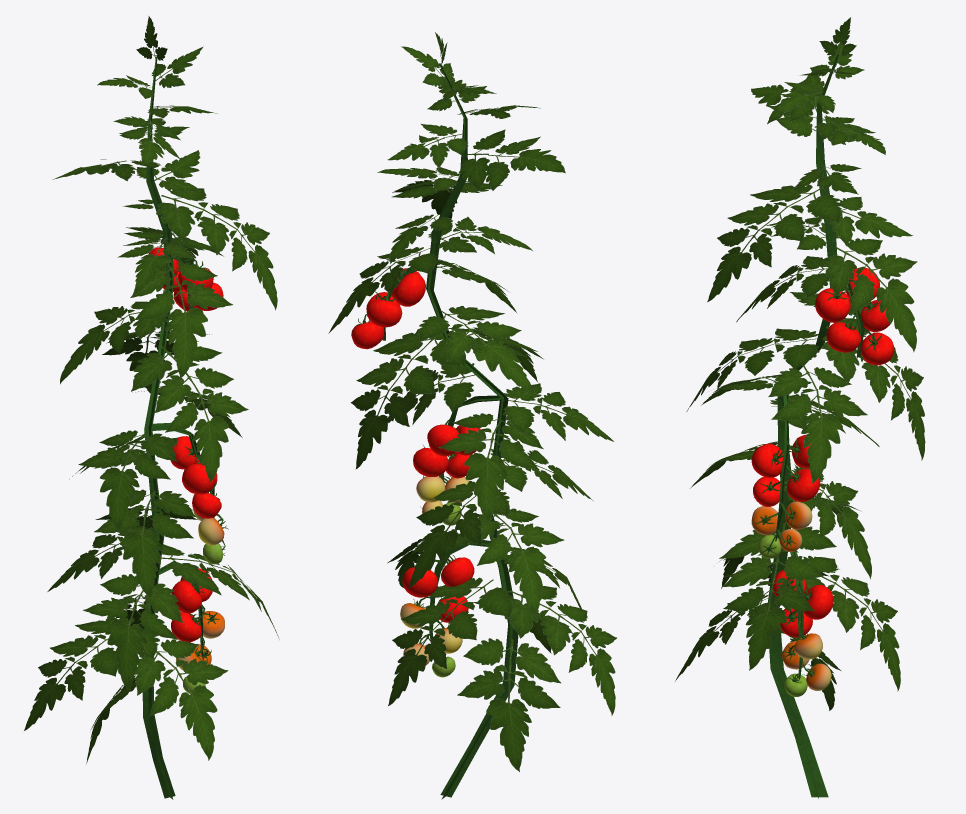
File: tomato_1.fbx
3 views of the same model, side by side, from view 1: azimuth 30°, elevation 25°; view 2: azimuth 150°, elevation 25°; view 3: azimuth 270°, elevation 25° (orthographic).
Visible parts, largest first — view 1: tomato_1; view 2: tomato_1; view 3: tomato_1.
Boxes of the visible parts, bbox=[...] form: tomato_1: bbox=[24, 16, 279, 799]; tomato_1: bbox=[328, 32, 616, 799]; tomato_1: bbox=[675, 17, 925, 798].
Size of the model in its own units: 0.6603 by 1.98 by 0.6507.
